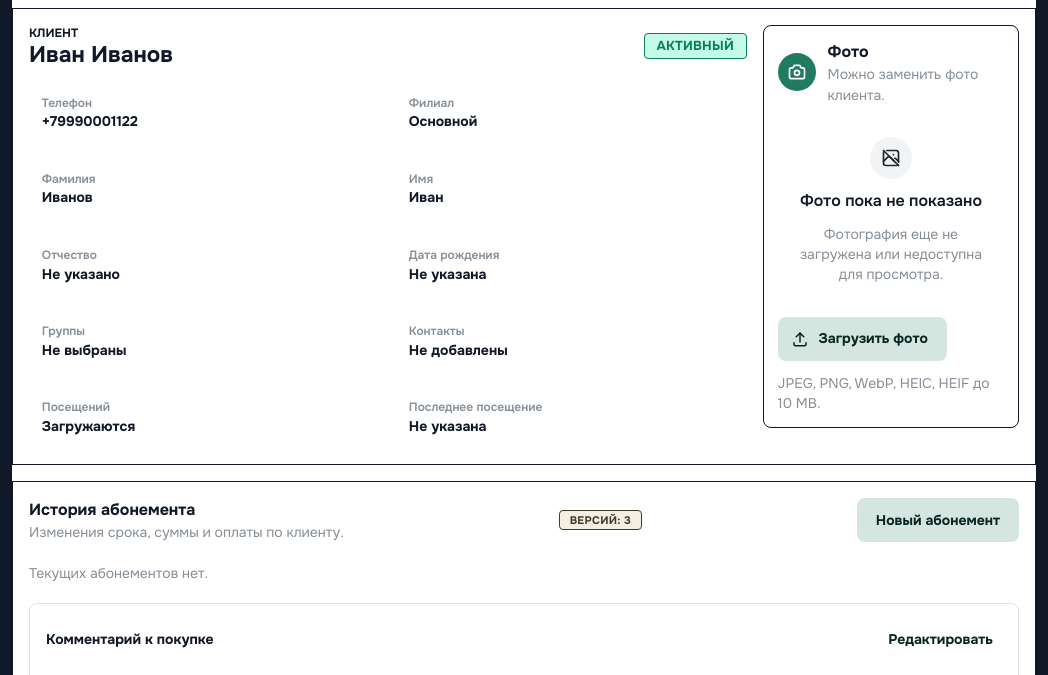
Test: ClientDetailScreen membership sale comments › keeps rejection and draft row-local, then retries without changing another sale
The width and height of the screenshot is (1048, 675).
Click the button with aria-label "Редактировать комментарий": coordinates (941, 640) x1=879 y1=618 x2=1002 y2=662
(page scrolled)
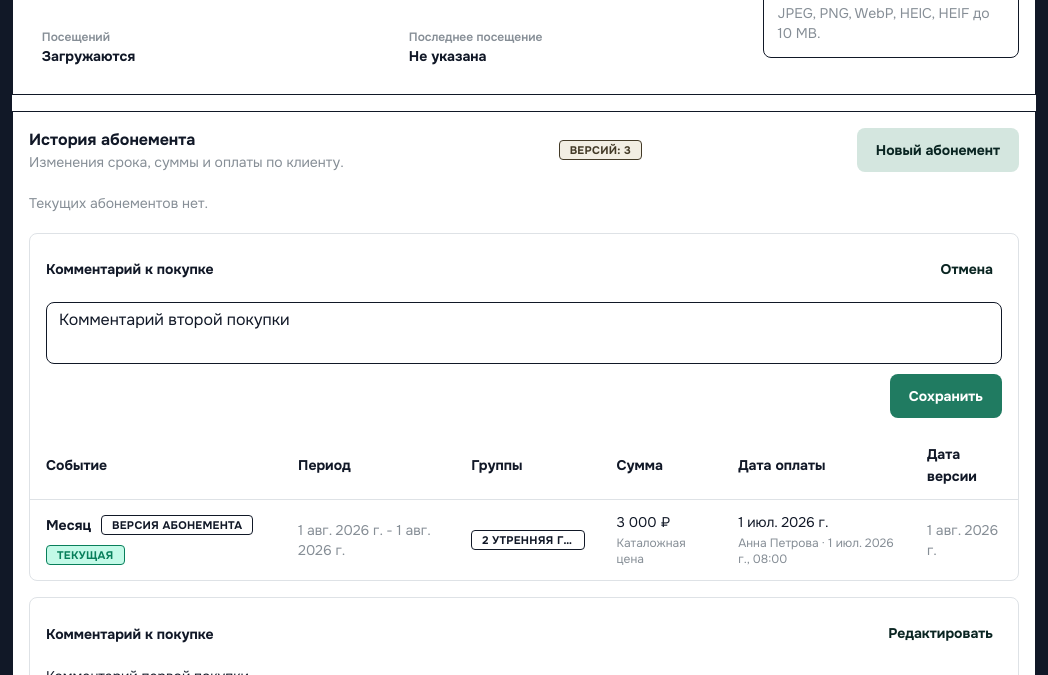
Replace the text in the text box named "Комментарий к покупке" with "Черновик B": coordinates (524, 333) x1=46 y1=302 x2=1002 y2=364
Click the button with aria-label "Редактировать комментарий": coordinates (941, 634) x1=879 y1=612 x2=1002 y2=656
(page scrolled)
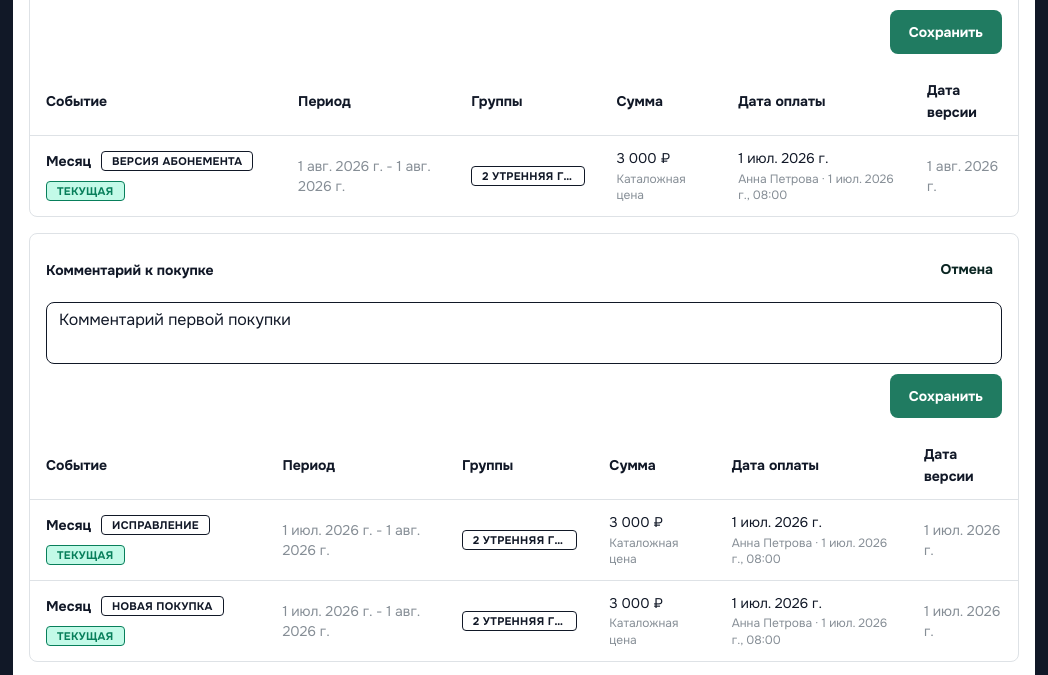
Replace the text in the 2nd text box named "Комментарий к покупке" with "Запрещено": coordinates (524, 333) x1=46 y1=302 x2=1002 y2=364
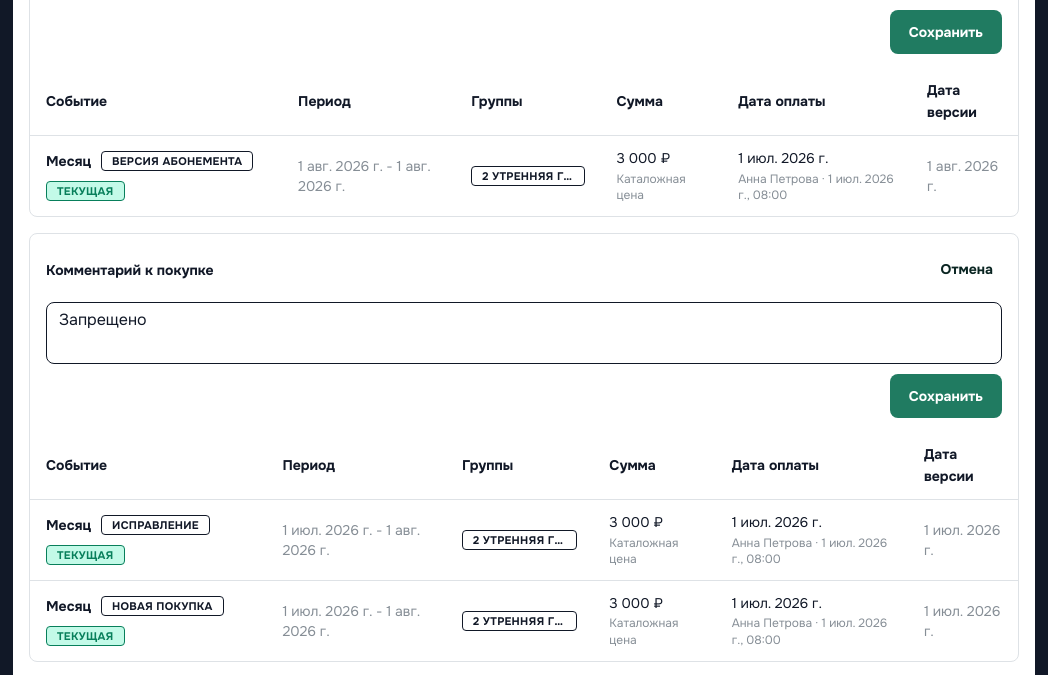
Click the 2nd button "Сохранить": coordinates (946, 396) x1=890 y1=374 x2=1002 y2=418
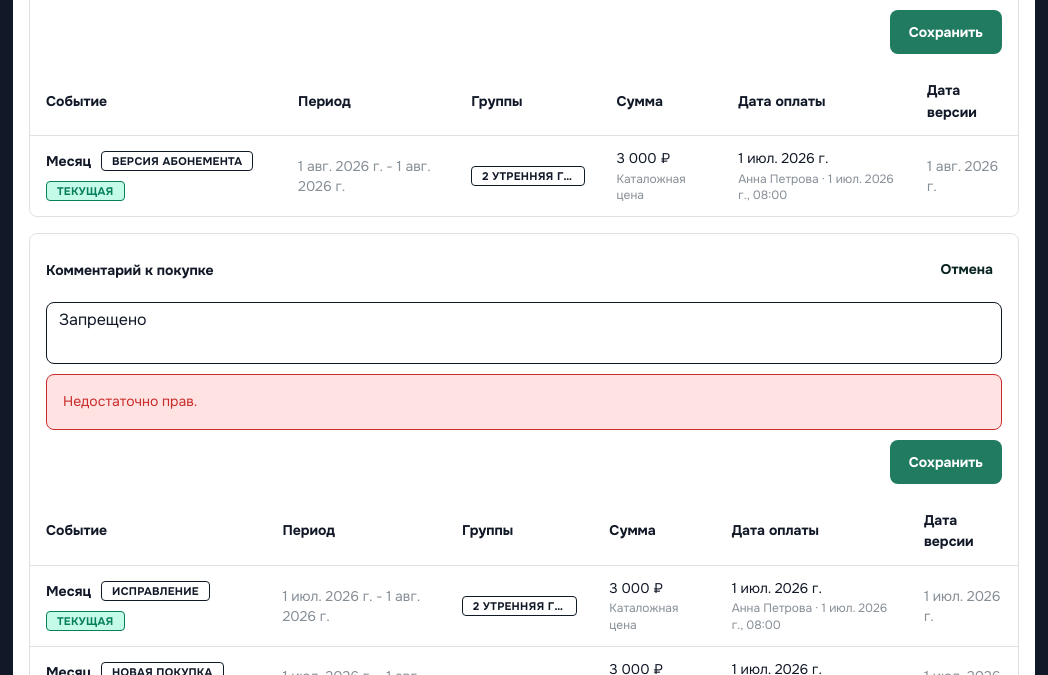
Result: the 1st button "Сохранить" is enabled at x1=890 y1=10 x2=1002 y2=54
Result: the text "Недостаточно прав." is shown at x1=63 y1=392 x2=197 y2=410
Click the 2nd button "Сохранить": coordinates (946, 462) x1=890 y1=440 x2=1002 y2=484
(page scrolled)
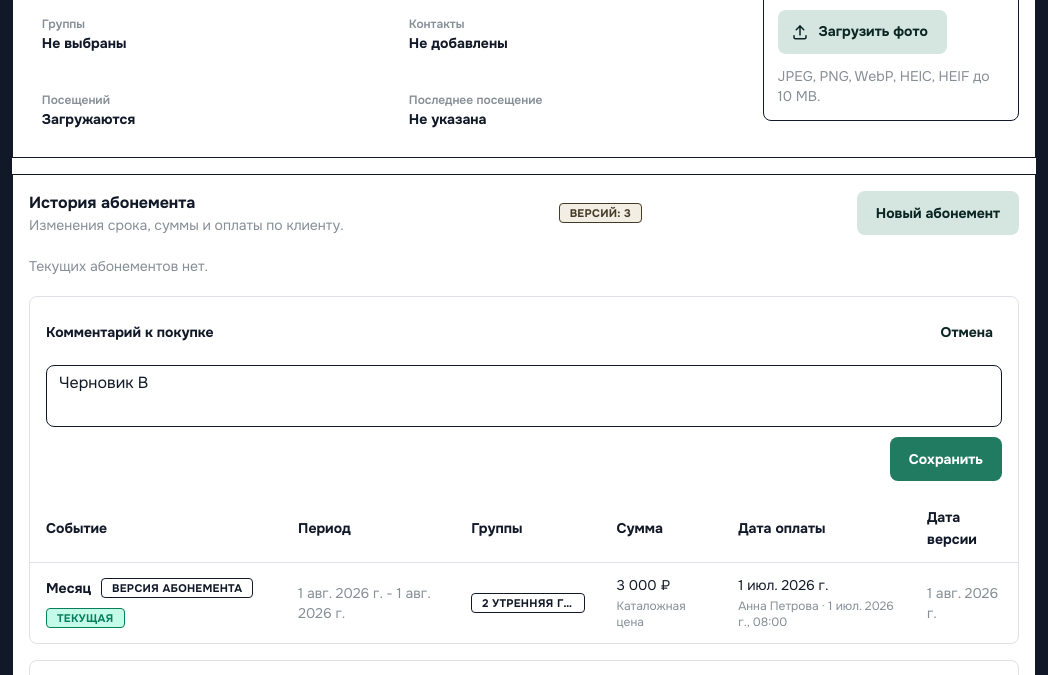
Click the button with aria-label "Отменить редактирование": coordinates (967, 333) x1=932 y1=311 x2=1002 y2=355
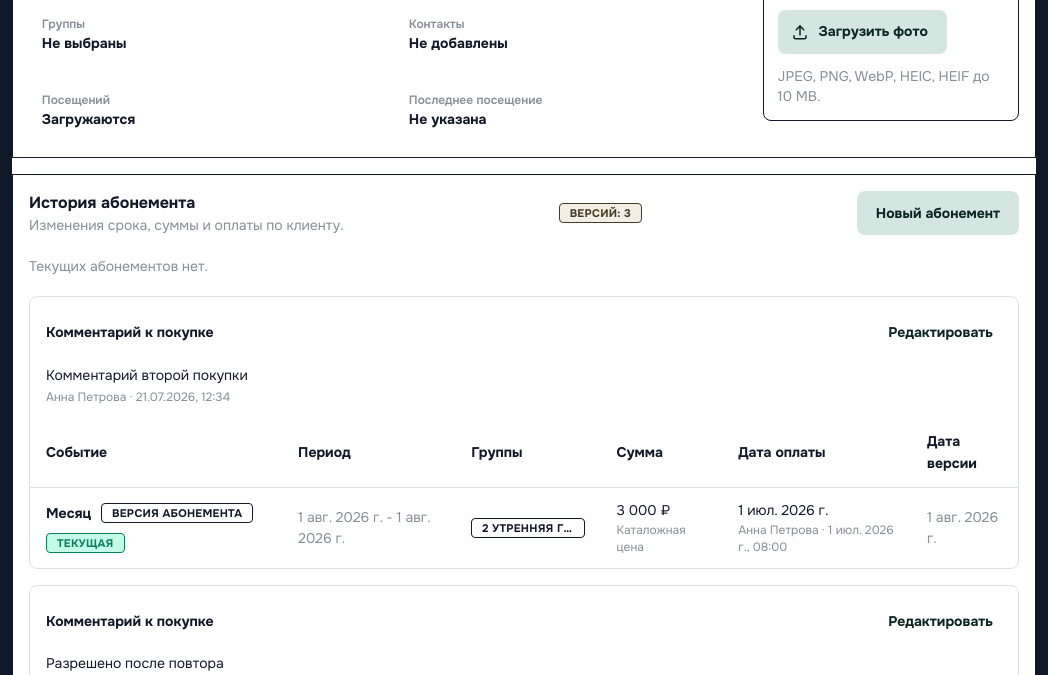
Result: the text "Комментарий второй покупки" is shown at x1=46 y1=366 x2=248 y2=384
